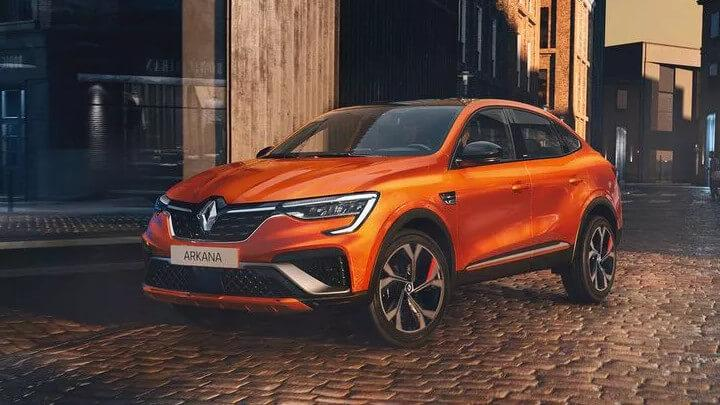Renault: (188, 193, 223, 240)
